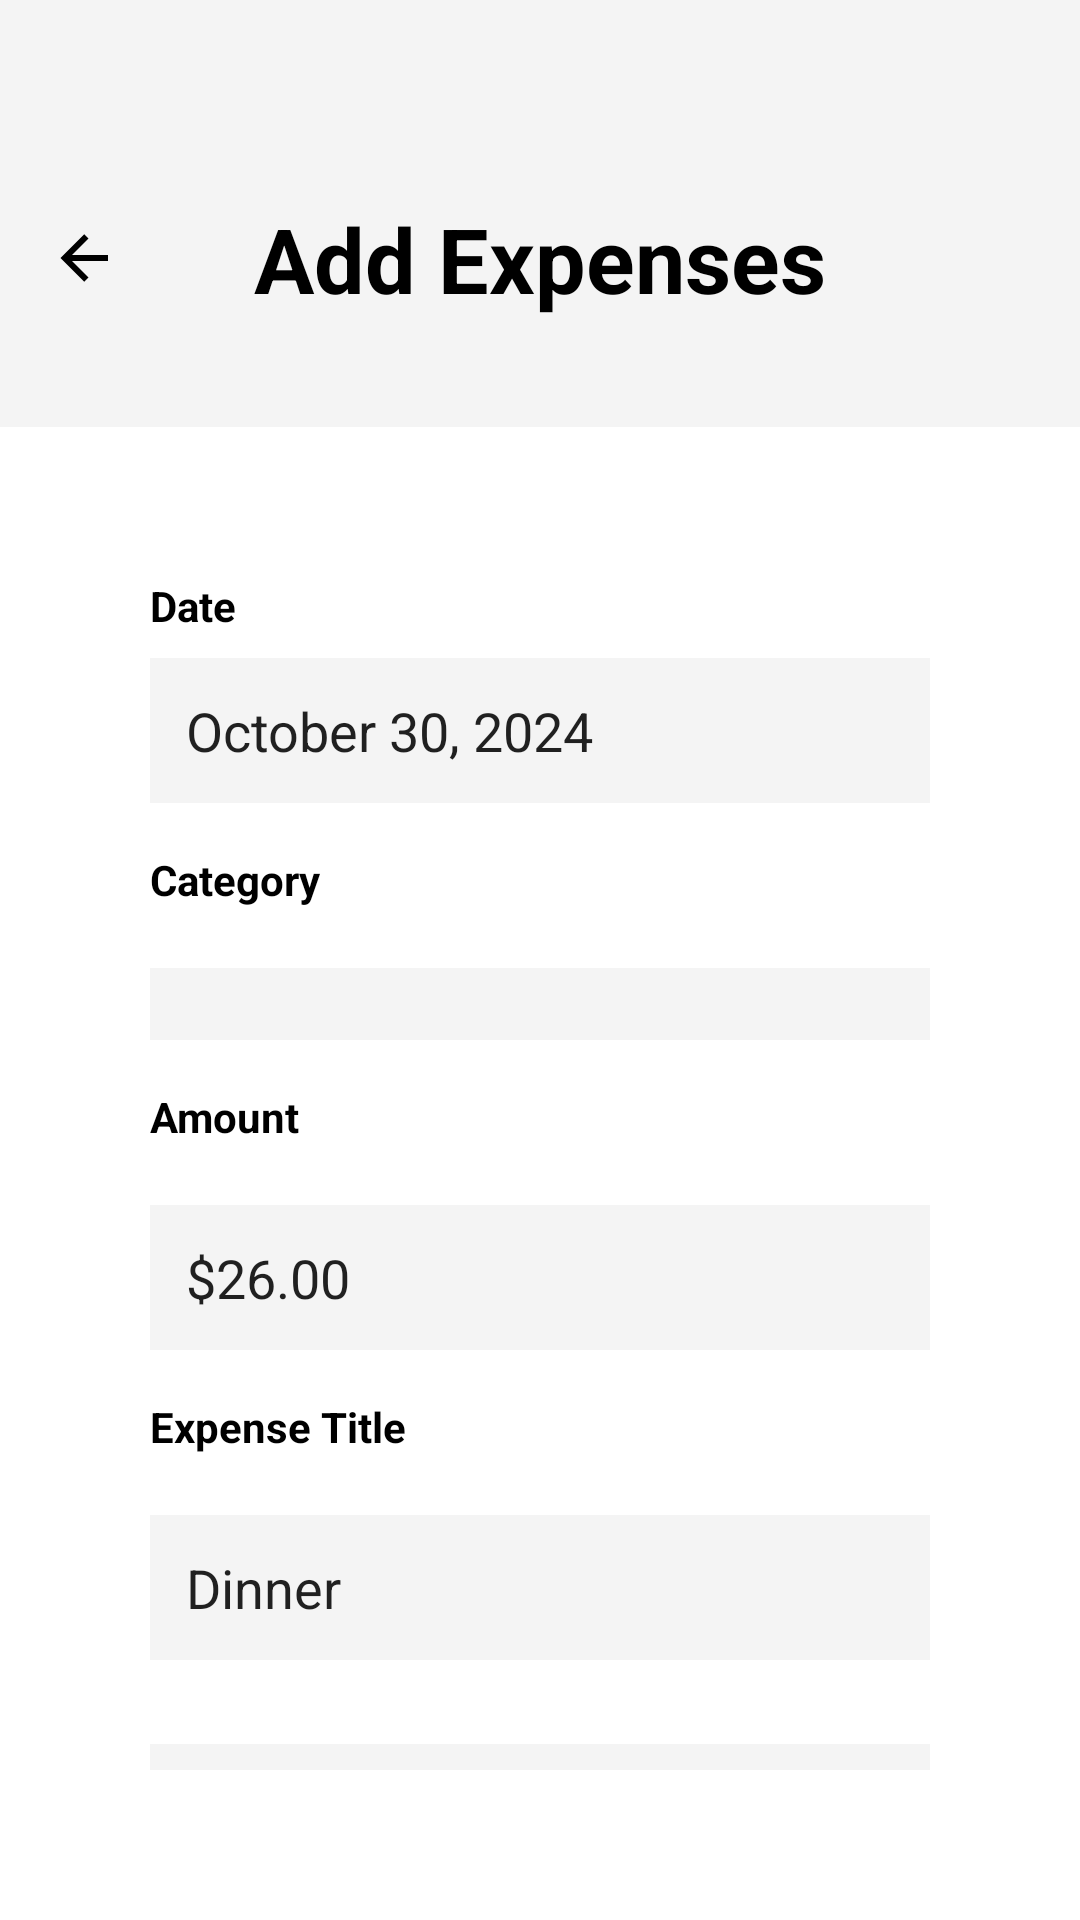

Icons on this 1080x1920 Android screen, each with the point to tap as (x,y):
Back Arrow: (84,258)
